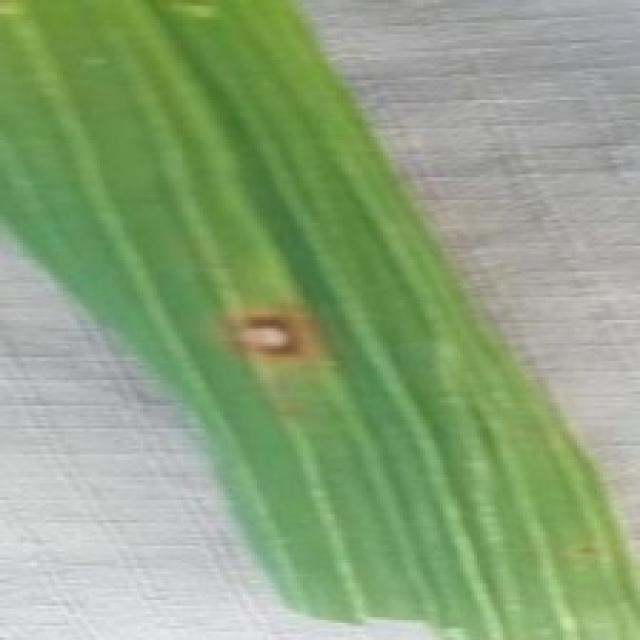Rice___Brown_Spot: (0, 0, 637, 637)
